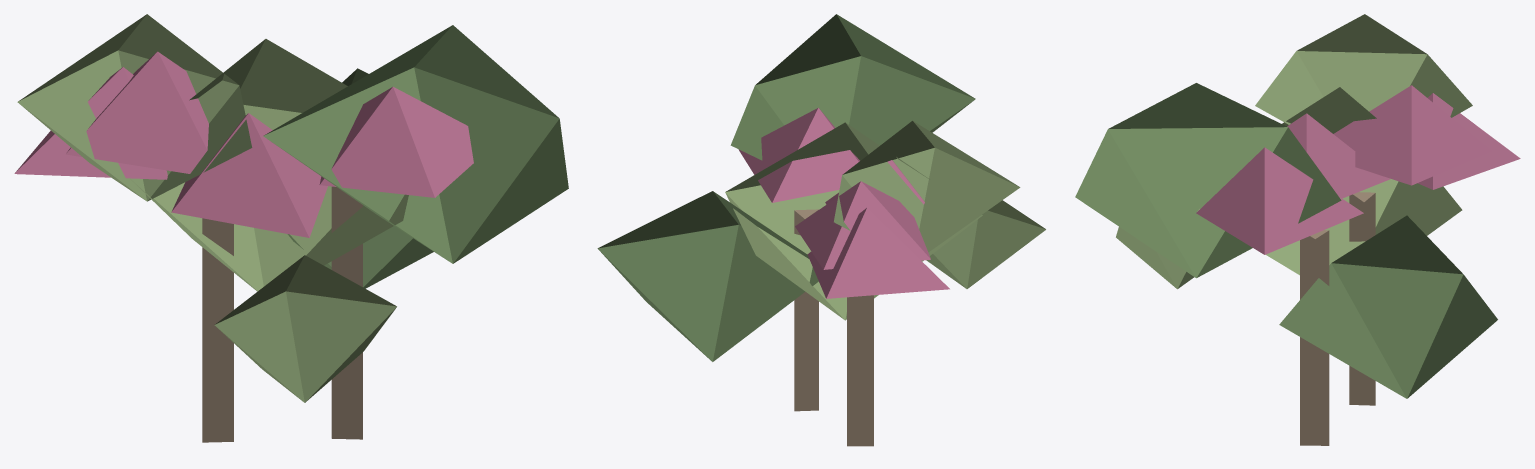
The model's file is shrub.sub.mountain_bush__summer.glb.
The picture shows the model from 3 angles, left to right: view 1: azimuth 30°, elevation 25°; view 2: azimuth 150°, elevation 25°; view 3: azimuth 270°, elevation 25°; orthographic projection. The views are drawn at different scales.
Visible parts, largest first — view 1: shrub.sub.mountain_bush__summer; view 2: shrub.sub.mountain_bush__summer; view 3: shrub.sub.mountain_bush__summer.
Boxes of the visible parts, box(x1,y1,x2,y2) form: shrub.sub.mountain_bush__summer: box(14, 14, 568, 442); shrub.sub.mountain_bush__summer: box(597, 14, 1045, 446); shrub.sub.mountain_bush__summer: box(1075, 14, 1520, 445).
Bounding box in the file's own units: 2.14 × 1.95 × 2.08.
